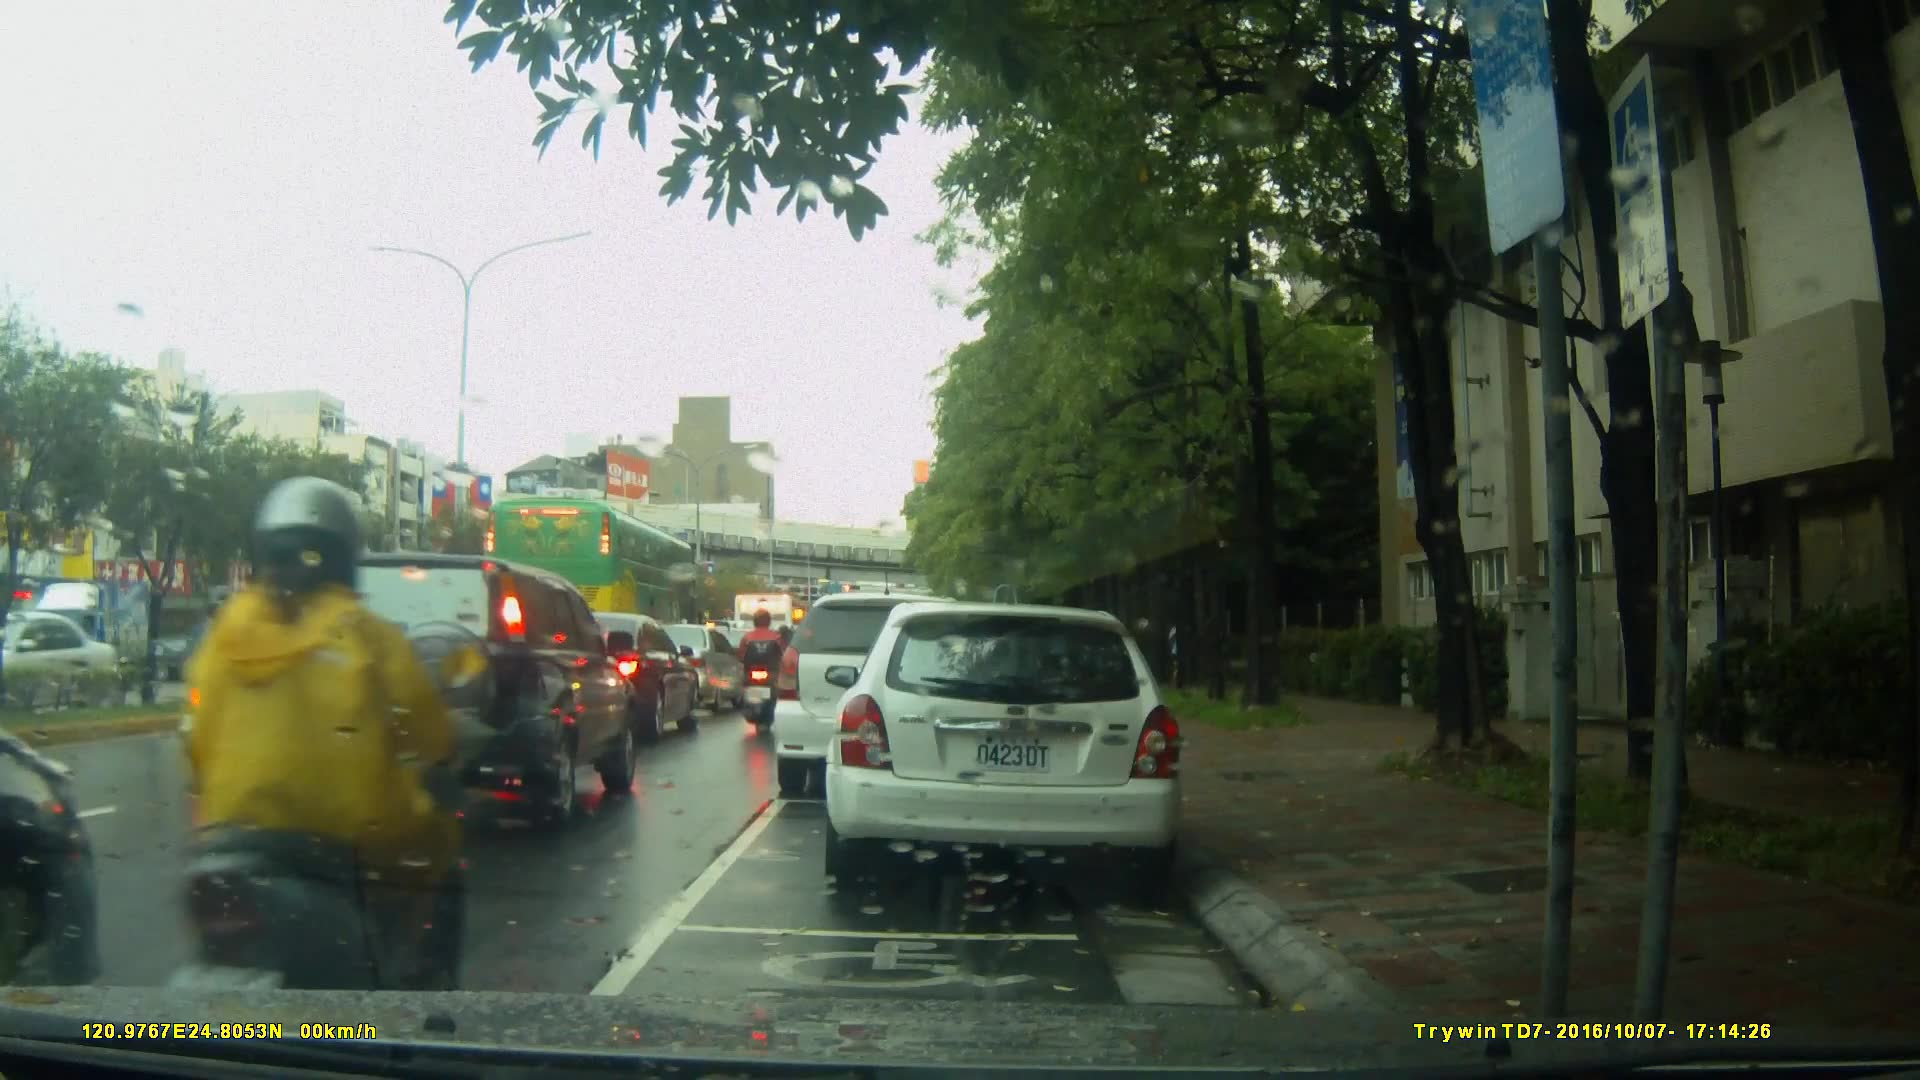rider: (176, 475, 463, 1031), (175, 597, 274, 771), (735, 612, 790, 732)
vehicle: (831, 592, 1196, 897), (296, 550, 623, 822), (770, 592, 999, 801), (480, 494, 712, 659), (509, 611, 702, 748), (22, 576, 164, 684), (1, 613, 131, 709), (633, 623, 751, 717)
